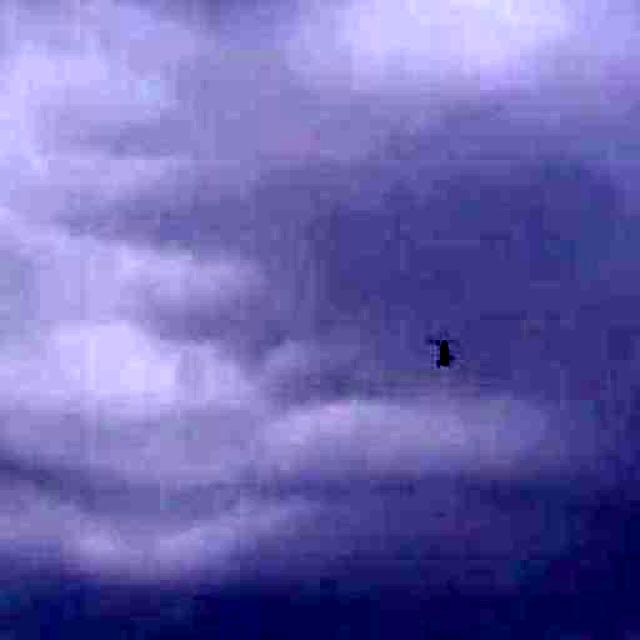drone: (408, 311, 490, 389)
